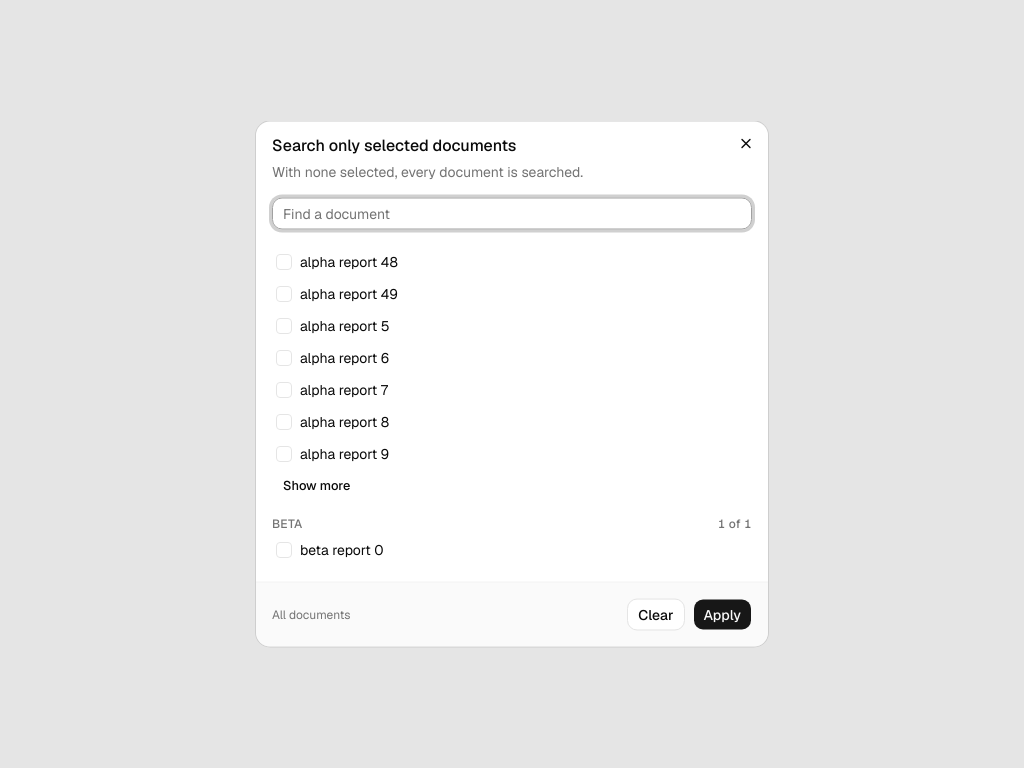
FilterDialog › asks for each further page at the page size, by offset
(page scrolled)
What coordinates should you click on to do the following:
click the button "Show more"
I would click on:
 (317, 486)
Its box is 272,472 -> 361,500.
(page scrolled)
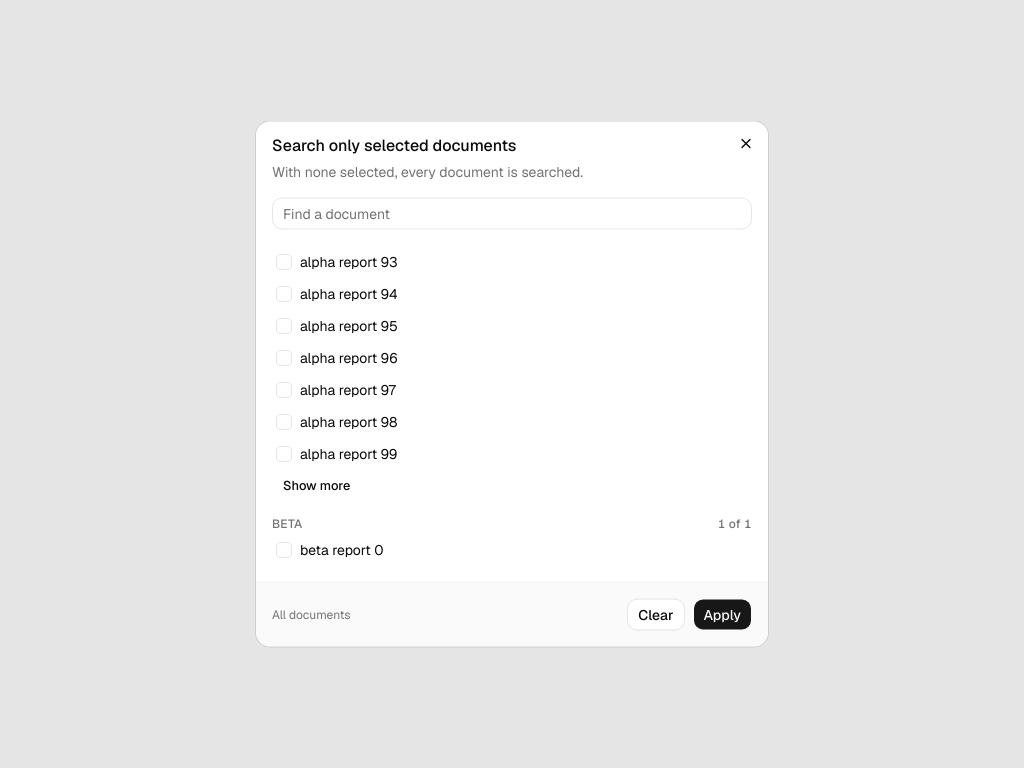
What coordinates should you click on to do the following:
click the button "Show more"
I would click on:
 (317, 486)
Its box is 272,472 -> 361,500.
(page scrolled)
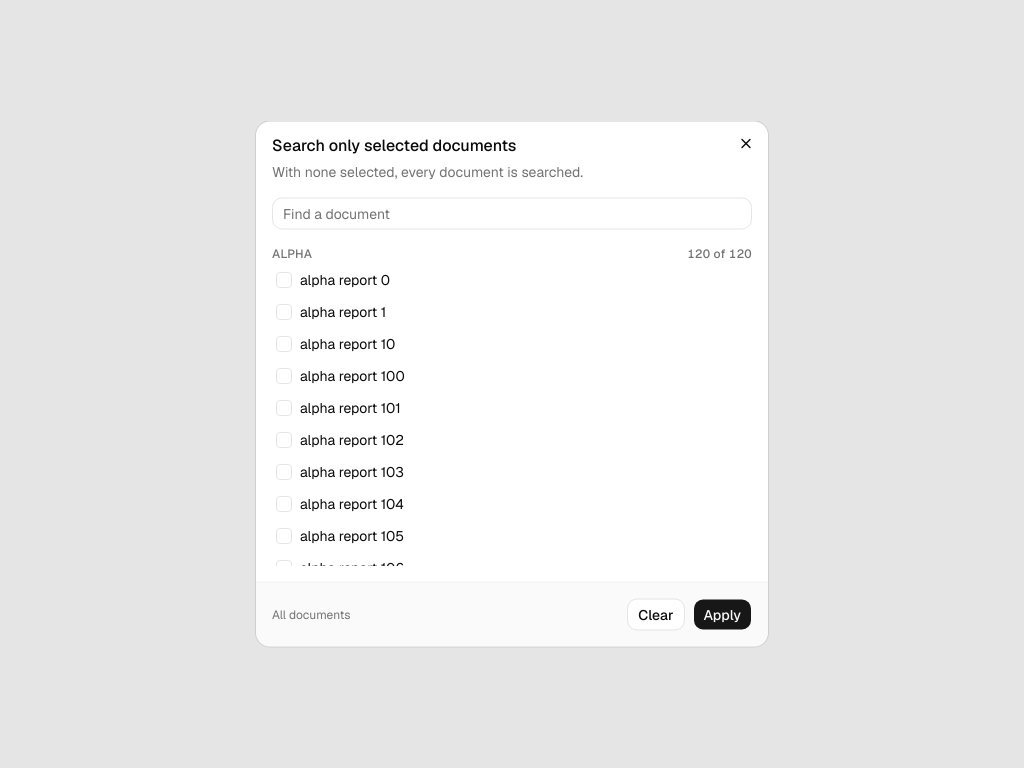
Now the text "120 of 120" is shown, box 687,246 -> 752,262
Now the button "Show more" is gone
